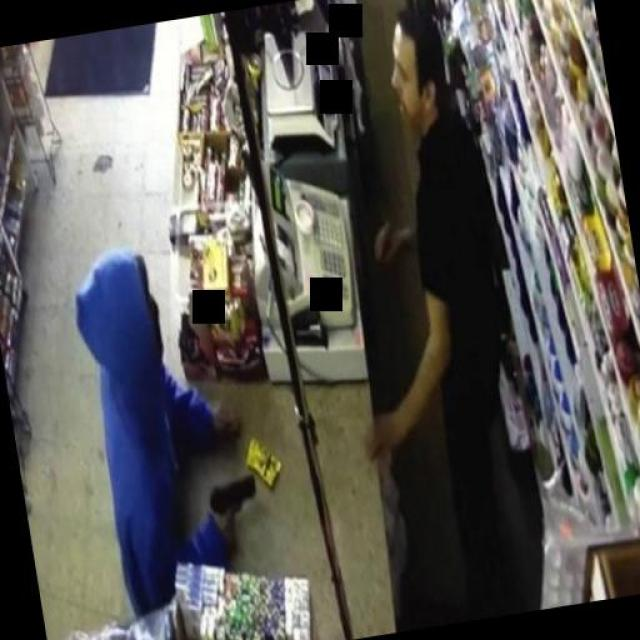gun: (198, 462, 266, 544)
